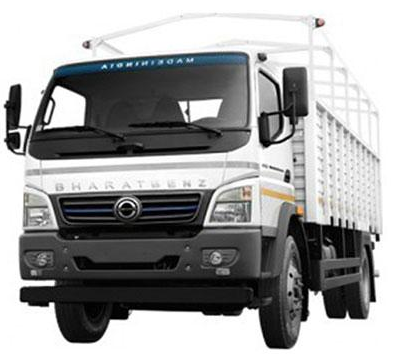truck: (5, 9, 385, 349)
